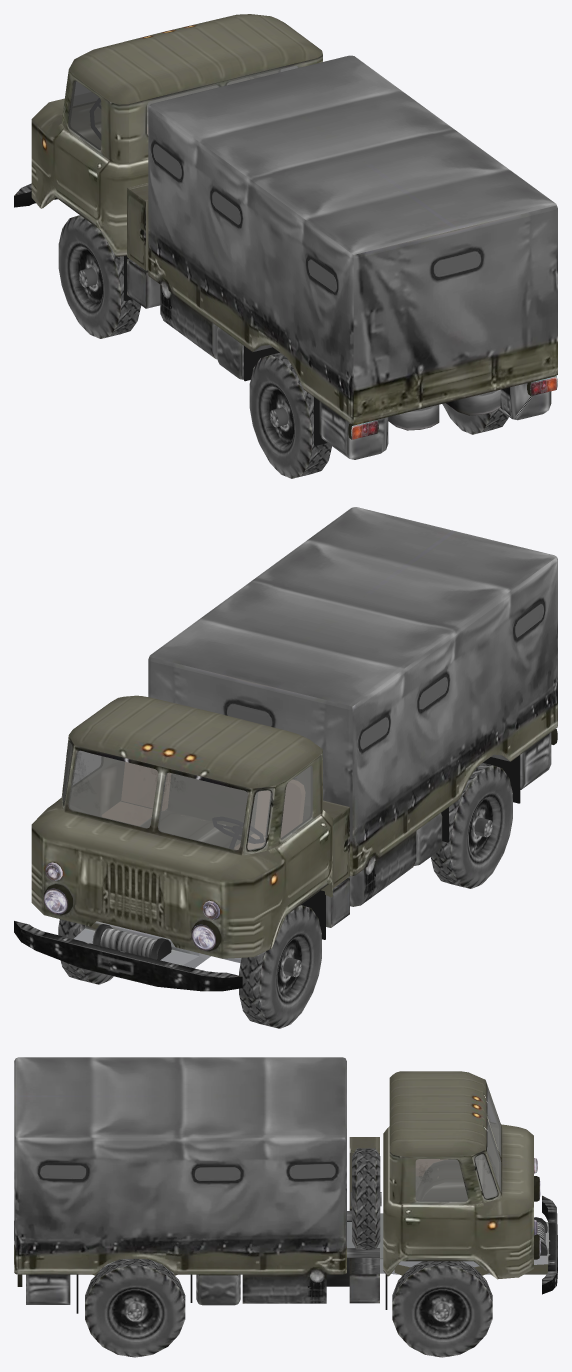
Rendered from truck_gaz66.glb.
3 renders of one model, top to bottom at view 1: azimuth 30°, elevation 25°; view 2: azimuth 150°, elevation 25°; view 3: azimuth 270°, elevation 25°, orthographic. The views are drawn at different scales.
Parts seen in each view (by area): view 1: shaft_F_GAZ-66_0, frame_glass_0; view 2: shaft_F_GAZ-66_0, frame_glass_0; view 3: shaft_F_GAZ-66_0, frame_glass_0.
Boxes of the visible parts, <box> form: shaft_F_GAZ-66_0: <box>14,14,557,478</box>; frame_glass_0: <box>68,65,298,150</box>; shaft_F_GAZ-66_0: <box>14,507,557,1028</box>; frame_glass_0: <box>62,742,312,850</box>; shaft_F_GAZ-66_0: <box>14,1057,557,1357</box>; frame_glass_0: <box>415,1085,501,1201</box>.
Bounding box in the file's own units: 2.33 × 2.65 × 5.9.
2 materials, 2 textured.
